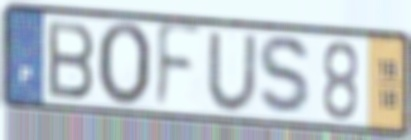8: (321, 38, 360, 123)
B: (45, 18, 97, 103)
F: (152, 19, 205, 115)
O: (94, 20, 155, 110)
S: (256, 32, 316, 120)
U: (204, 30, 260, 114)
